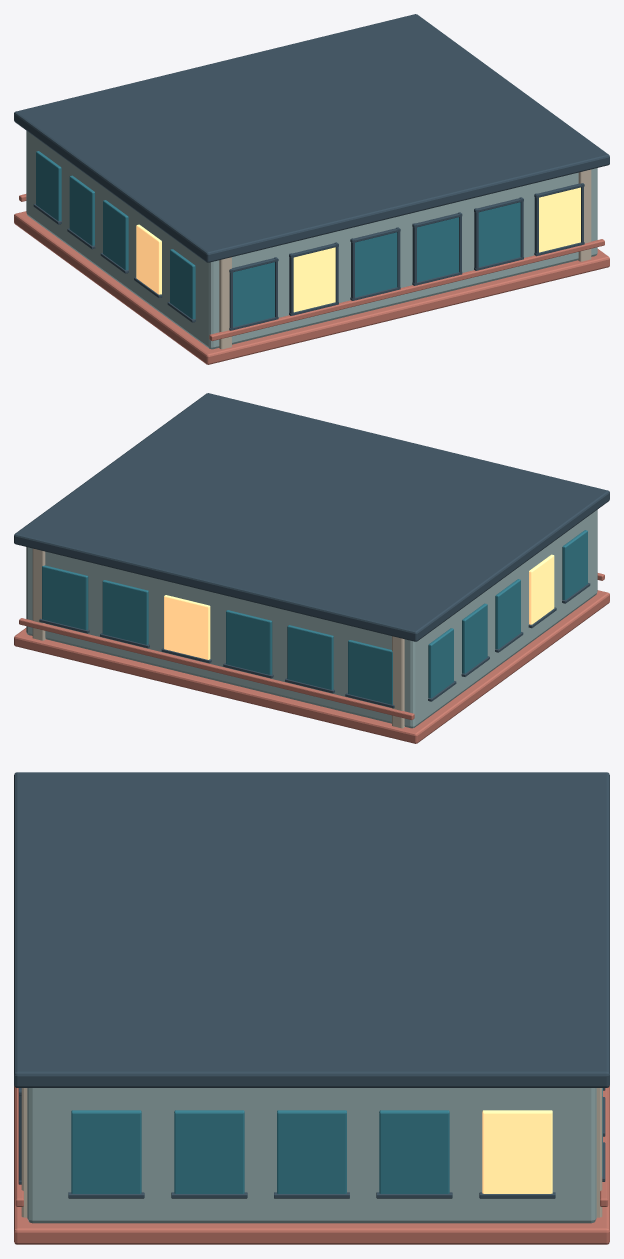
The model's file is SM_SolCity_BuildingMiddle_01.fbx.
3 renders of one model, top to bottom at view 1: azimuth 30°, elevation 25°; view 2: azimuth 150°, elevation 25°; view 3: azimuth 270°, elevation 25°, orthographic. The views are drawn at different scales.
Parts seen in each view (by area): view 1: Middle_Top_Slab, Middle_Wall, Middle_Bottom_Slab, Middle_Front_Sill, MiddleFront_Glass_-0.92_1.65, MiddleFront_Glass_+2.75_1.65, MiddleFront_Glass_-2.75_1.65, MiddleFront_Glass_+4.55_1.65, MiddleFront_Glass_-4.55_1.65, MiddleFront_Glass_+0.92_1.65, MiddleSide_-1_Glass_-1.72_1.65, MiddleSide_-1_Glass_+1.72_1.65 (+5 smaller); view 2: Middle_Top_Slab, Middle_Wall, Middle_Bottom_Slab, Middle_Back_Sill, MiddleBack_Glass_+0.92_1.65, MiddleBack_Glass_-0.92_1.65, MiddleBack_Glass_-2.75_1.65, MiddleBack_Glass_+2.75_1.65, MiddleBack_Glass_+4.55_1.65, MiddleBack_Glass_-4.55_1.65, MiddleSide_-1_Glass_+1.72_1.65, MiddleSide_-1_Glass_+3.45_1.65 (+5 smaller); view 3: Middle_Top_Slab, Middle_Wall, Middle_Bottom_Slab, MiddleSide_+1_Glass_+3.45_1.65, MiddleSide_+1_Glass_-3.45_1.65, MiddleSide_+1_Glass_+1.72_1.65, MiddleSide_+1_Glass_-1.72_1.65, MiddleSide_+1_Glass_+0.00_1.65, Middle_Corner_+5.34_+4.70, Middle_Corner_+5.34_-4.70.
Part boxes in pixels (box(x1,y1,x2,y2)): Middle_Top_Slab: box(14, 14, 609, 262); Middle_Wall: box(26, 131, 597, 349); Middle_Bottom_Slab: box(14, 211, 609, 364); Middle_Front_Sill: box(209, 239, 604, 341); MiddleFront_Glass_-0.92_1.65: box(355, 232, 397, 297); MiddleFront_Glass_+2.75_1.65: box(478, 202, 520, 266); MiddleFront_Glass_-2.75_1.65: box(293, 247, 335, 312); MiddleFront_Glass_+4.55_1.65: box(539, 187, 580, 252); MiddleFront_Glass_-4.55_1.65: box(233, 262, 274, 327); MiddleFront_Glass_+0.92_1.65: box(417, 217, 458, 282); MiddleSide_-1_Glass_-1.72_1.65: box(136, 224, 161, 294); MiddleSide_-1_Glass_+1.72_1.65: box(69, 175, 94, 245); Middle_Top_Slab: box(14, 393, 609, 641); Middle_Wall: box(26, 510, 597, 728); Middle_Bottom_Slab: box(14, 590, 609, 743); Middle_Back_Sill: box(19, 618, 414, 720); MiddleBack_Glass_+0.92_1.65: box(164, 595, 210, 659); MiddleBack_Glass_-0.92_1.65: box(226, 610, 272, 674); MiddleBack_Glass_-2.75_1.65: box(287, 625, 333, 689); MiddleBack_Glass_+2.75_1.65: box(102, 580, 148, 644); MiddleBack_Glass_+4.55_1.65: box(42, 565, 88, 629); MiddleBack_Glass_-4.55_1.65: box(348, 640, 392, 704); MiddleSide_-1_Glass_+1.72_1.65: box(462, 603, 487, 673); MiddleSide_-1_Glass_+3.45_1.65: box(428, 628, 453, 698); Middle_Top_Slab: box(14, 772, 609, 1087); Middle_Wall: box(27, 1088, 596, 1223); Middle_Bottom_Slab: box(14, 1085, 609, 1244); MiddleSide_+1_Glass_+3.45_1.65: box(482, 1110, 552, 1193); MiddleSide_+1_Glass_-3.45_1.65: box(71, 1110, 141, 1193); MiddleSide_+1_Glass_+1.72_1.65: box(379, 1110, 449, 1193); MiddleSide_+1_Glass_-1.72_1.65: box(174, 1110, 244, 1193); MiddleSide_+1_Glass_+0.00_1.65: box(277, 1110, 346, 1193); Middle_Corner_+5.34_+4.70: box(596, 1088, 602, 1217); Middle_Corner_+5.34_-4.70: box(21, 1088, 27, 1217).
Size of the model in its own units: 12 by 10 by 3.2.
